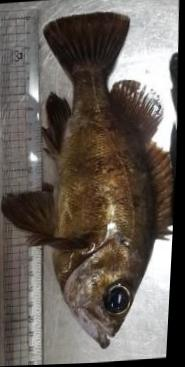fish: (3, 13, 177, 351)
